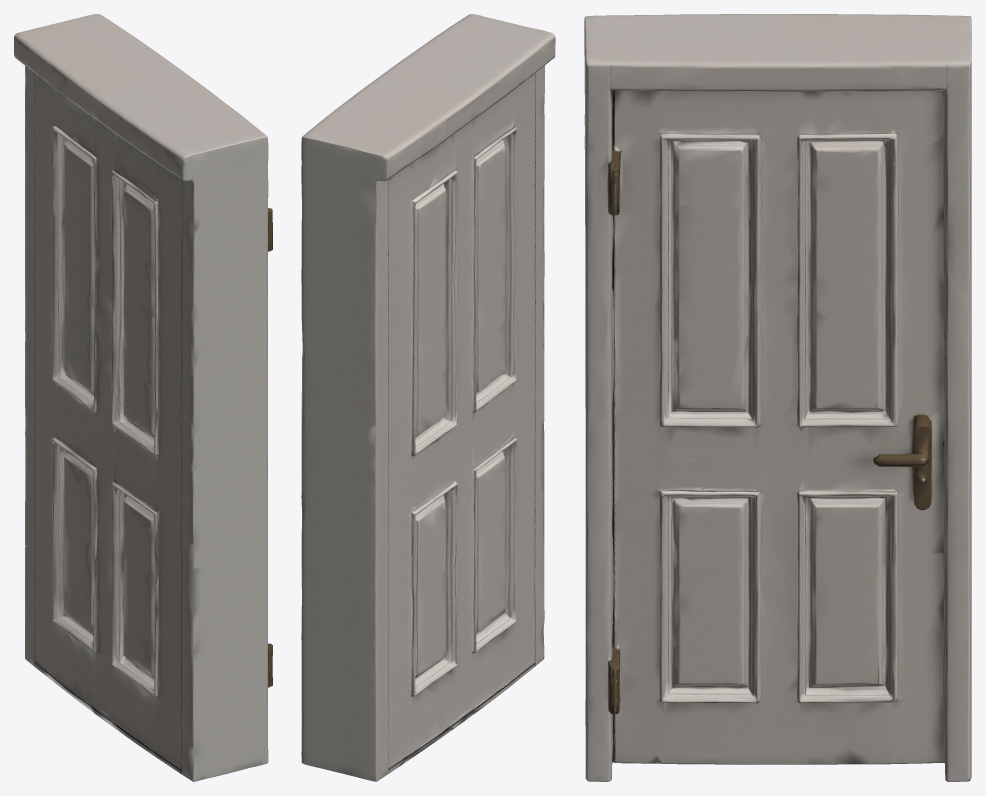
Rendered from door+3d+model.glb.
3 renders of one model, left to right at view 1: azimuth 30°, elevation 25°; view 2: azimuth 150°, elevation 25°; view 3: azimuth 270°, elevation 25°, orthographic. The views are drawn at different scales.
Parts seen in each view (by area): view 1: tripo_node_406bb599-4b2a-43ba-934f-bdea9fa0bce2; view 2: tripo_node_406bb599-4b2a-43ba-934f-bdea9fa0bce2; view 3: tripo_node_406bb599-4b2a-43ba-934f-bdea9fa0bce2.
Part boxes in pixels (x1=…): tripo_node_406bb599-4b2a-43ba-934f-bdea9fa0bce2: x1=14, y1=14, x2=272, y2=781; tripo_node_406bb599-4b2a-43ba-934f-bdea9fa0bce2: x1=301, y1=14, x2=555, y2=781; tripo_node_406bb599-4b2a-43ba-934f-bdea9fa0bce2: x1=584, y1=14, x2=971, y2=781.
Size of the model in its own units: 0.1792 by 1 by 0.488.
Materials: 1 (1 with a texture image).
